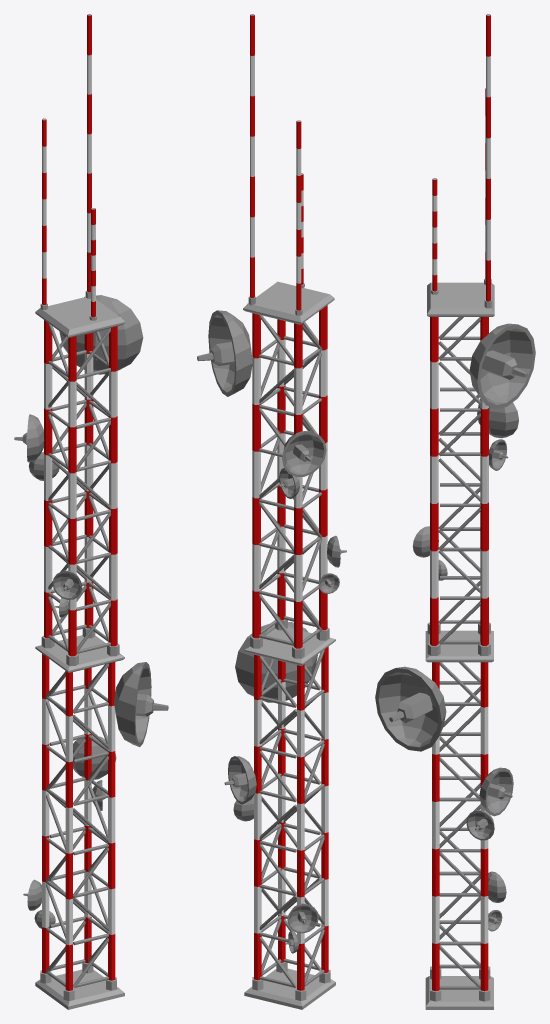
Rendered from RadioTower.fbx.
3 renders of one model, left to right at view 1: azimuth 30°, elevation 25°; view 2: azimuth 150°, elevation 25°; view 3: azimuth 270°, elevation 25°, orthographic. The views are drawn at different scales.
Visible parts, largest first — view 1: RadioTower; view 2: RadioTower; view 3: RadioTower.
Boxes of the visible parts, x1=… form: RadioTower: x1=14, y1=14, x2=168, y2=1009; RadioTower: x1=197, y1=14, x2=346, y2=1009; RadioTower: x1=375, y1=14, x2=535, y2=1009.
Size of the model in its own units: 1722 by 13611 by 1997.
